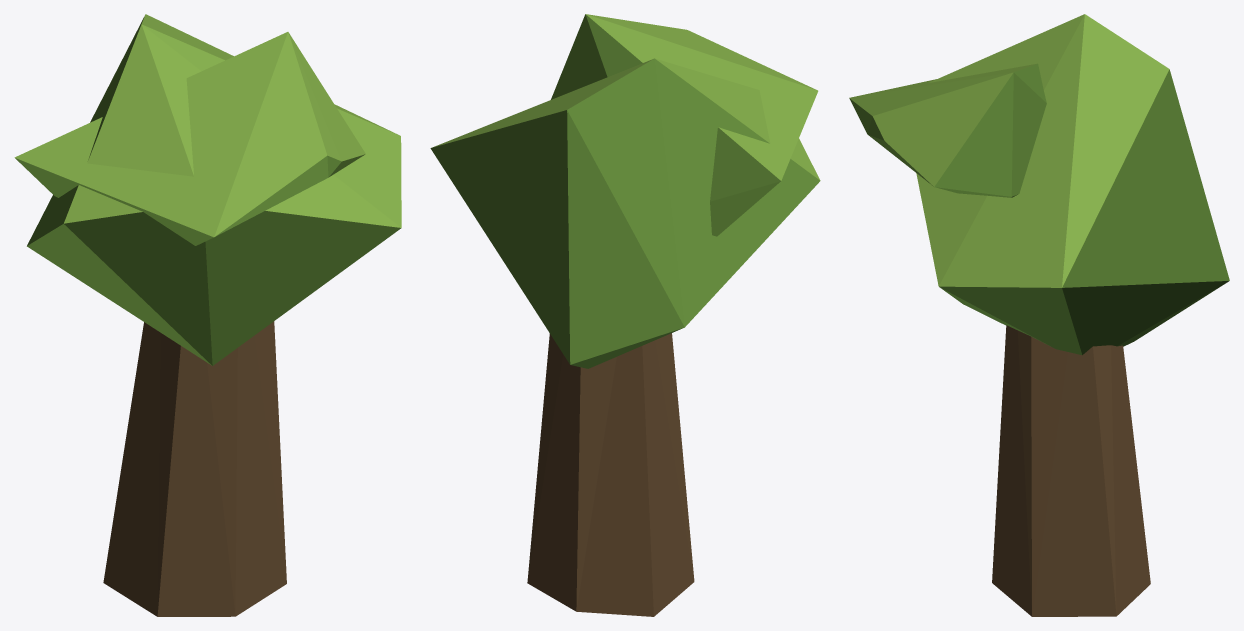
File: Sapling_A.fbx
3 renders of one model, left to right at view 1: azimuth 30°, elevation 25°; view 2: azimuth 150°, elevation 25°; view 3: azimuth 270°, elevation 25°, orthographic. The views are drawn at different scales.
Visible parts, largest first — view 1: Sapling_A; view 2: Sapling_A; view 3: Sapling_A.
Boxes of the visible parts, left/top/right/bottom form: Sapling_A: left=14, top=14, right=401, bottom=616; Sapling_A: left=430, top=14, right=820, bottom=616; Sapling_A: left=849, top=14, right=1229, bottom=616.
Size of the model in its own units: 1.6 by 2.3 by 1.45.
